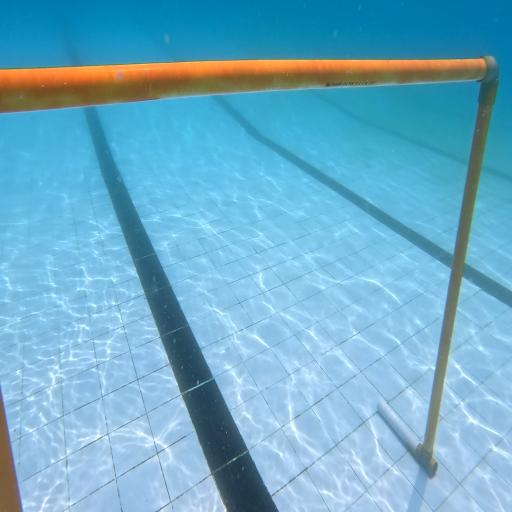gate: (0, 55, 499, 512)
